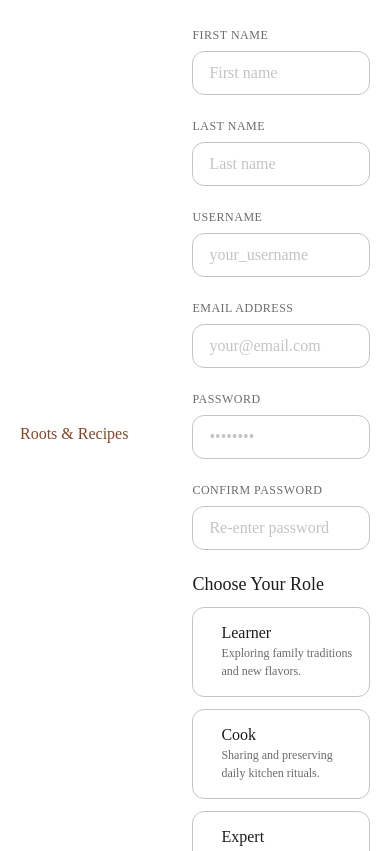
RegisterScreen › validation › shows error when password is too short
The width and height of the screenshot is (390, 851).
Type "user@test.com" into the field with placeholder "your@email.com". click: (281, 346)
box: [192,324,370,368]
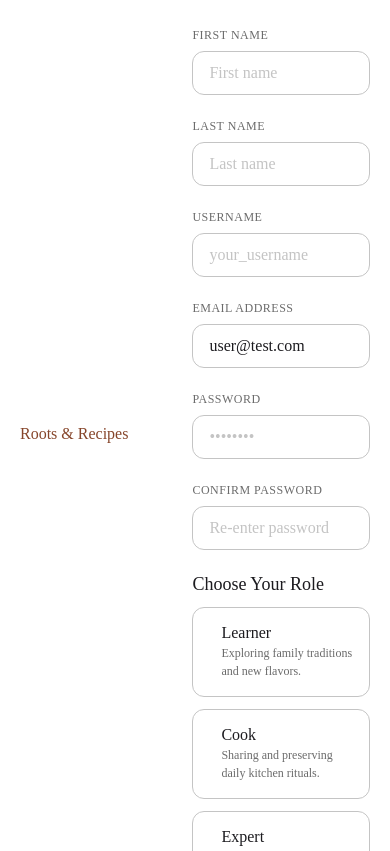
Type "short" into the field with placeholder "••••••••". click: (281, 437)
box: [192,415,370,459]
(page scrolled)
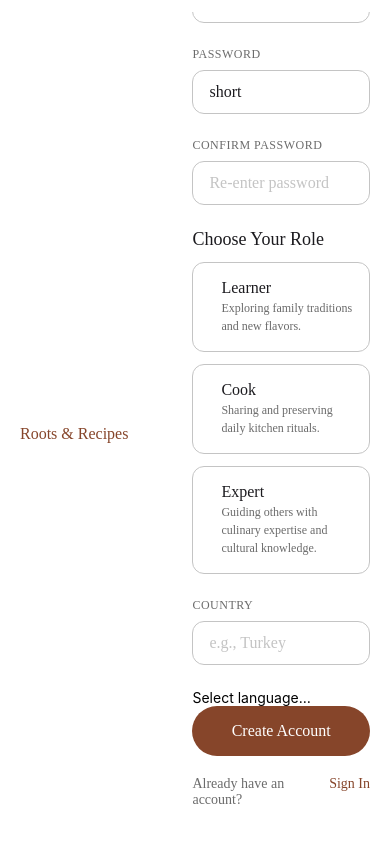
Click the text "Create Account". click: (281, 731)
box: [232,722,331,740]
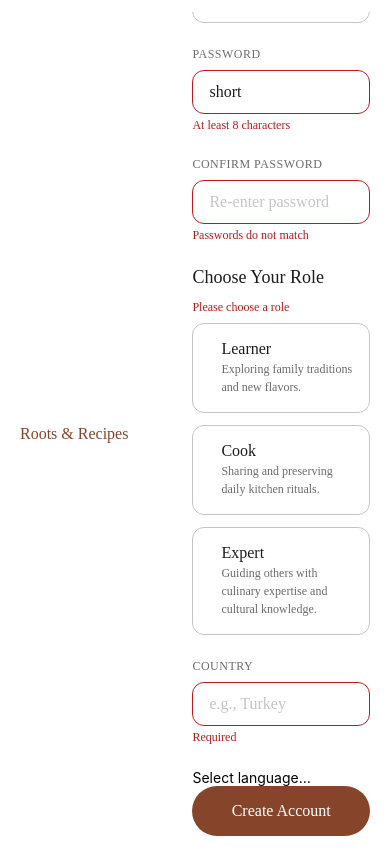
Check: the text "At least 8 characters" is shown, box [192,118,290,132]
